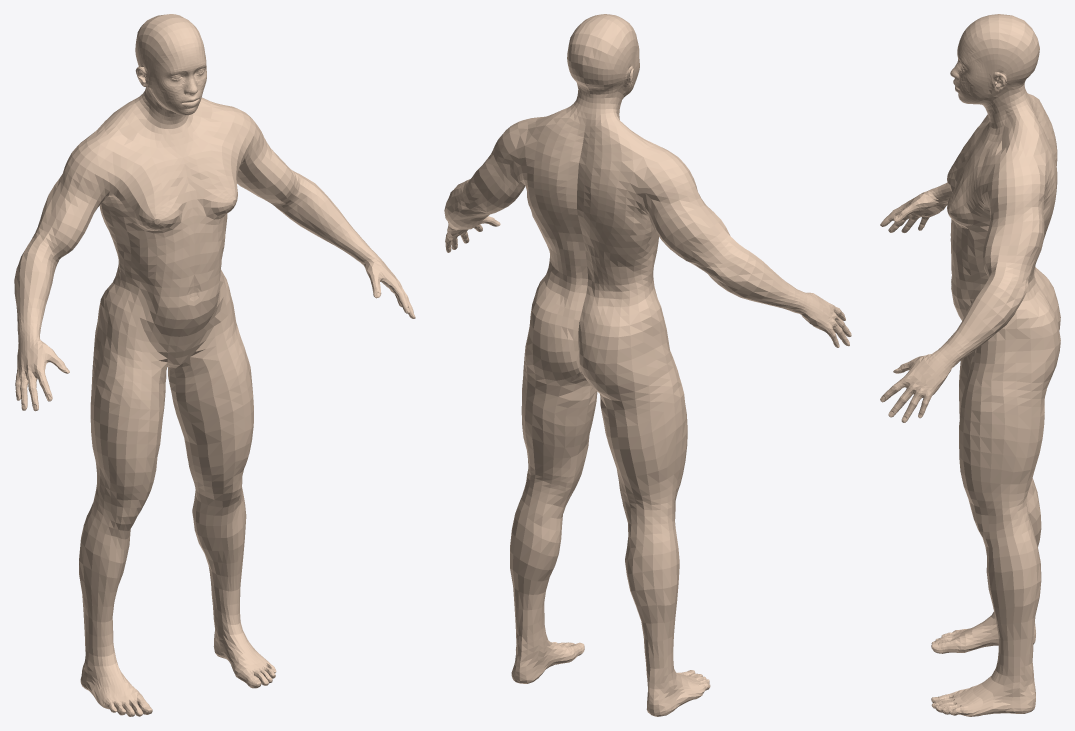
File: female-young-max-high.glb
3 renders of one model, left to right at view 1: azimuth 30°, elevation 25°; view 2: azimuth 150°, elevation 25°; view 3: azimuth 270°, elevation 25°, orthographic.
Visible parts, largest first — view 1: world; view 2: world; view 3: world.
Boxes of the visible parts, x1=… form: world: x1=14, y1=14, x2=415, y2=716; world: x1=444, y1=14, x2=851, y2=716; world: x1=880, y1=14, x2=1060, y2=716.
Bounding box in the file's own units: 1.09 × 1.76 × 0.4344.
